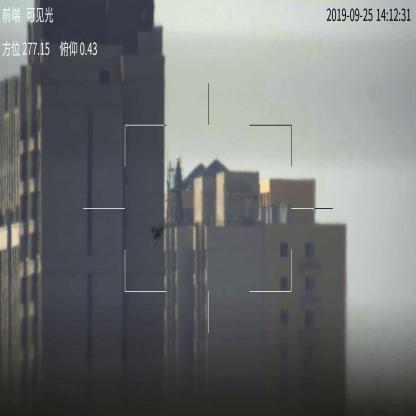uav: (148, 223, 166, 247)
